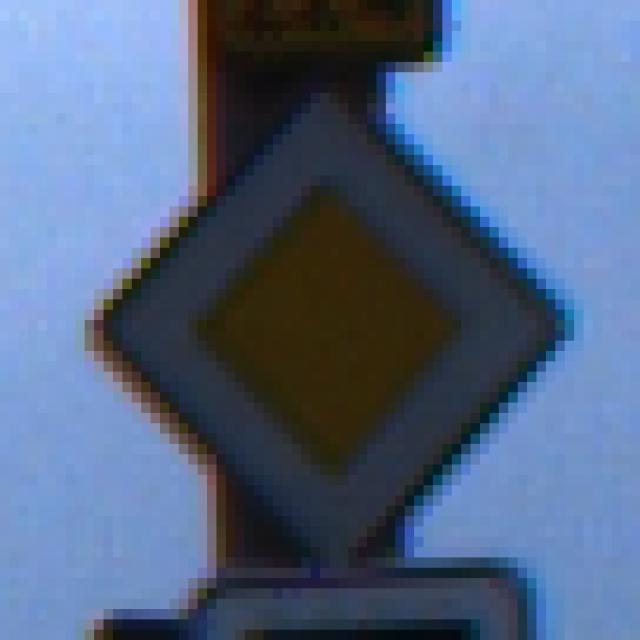Main Road: (67, 53, 584, 590)
